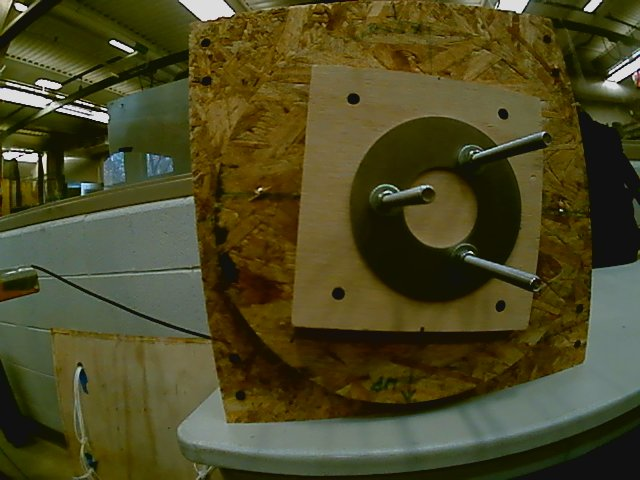bolt: (418, 184, 438, 205), (527, 275, 545, 293), (539, 130, 553, 148)
